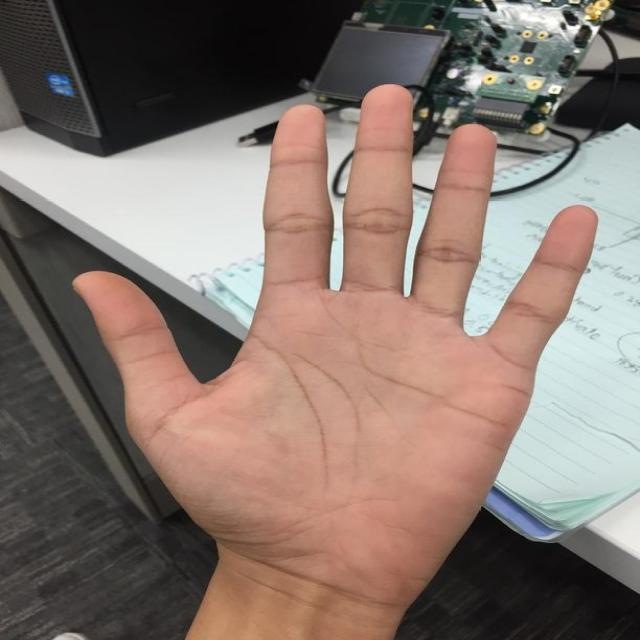hand: (69, 80, 596, 601)
